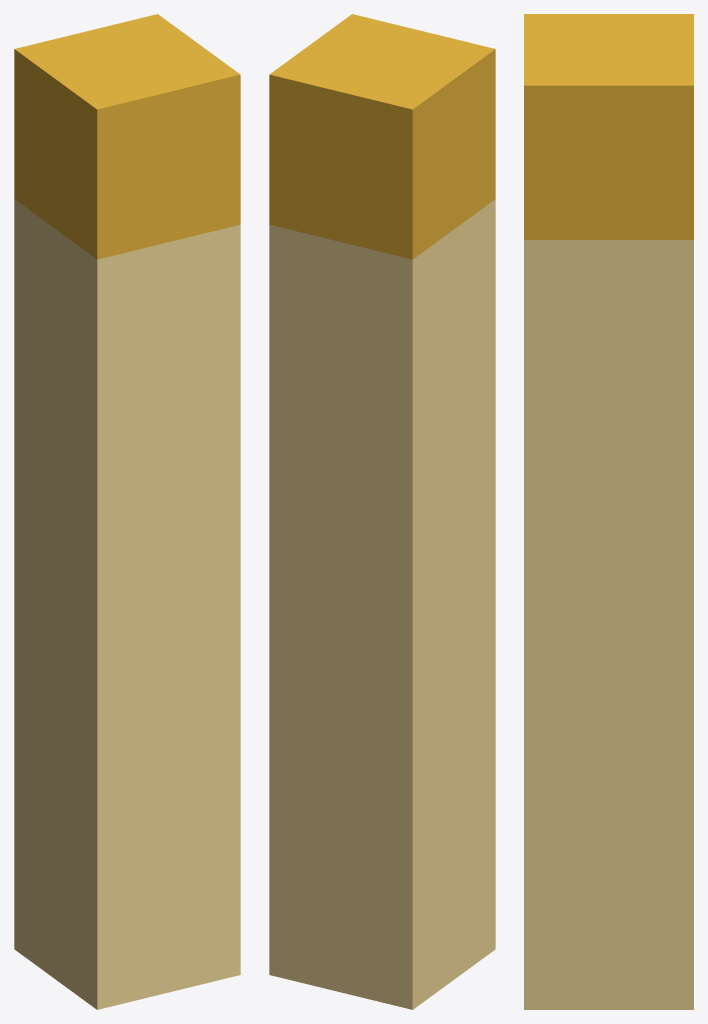
The model's file is thymea-23-right_hand_idle.obj.
3 renders of one model, left to right at view 1: azimuth 30°, elevation 25°; view 2: azimuth 150°, elevation 25°; view 3: azimuth 270°, elevation 25°, orthographic. The views are drawn at different scales.
Parts seen in each view (by area): view 1: right_hand_idle; view 2: right_hand_idle; view 3: right_hand_idle.
Boxes of the visible parts, x1,y1,x2,y2 form: right_hand_idle: (14, 14, 240, 1009); right_hand_idle: (269, 14, 495, 1009); right_hand_idle: (524, 14, 693, 1009).
Bounding box in the file's own units: 0.1 × 0.6 × 0.1.
Materials: 1 (1 with a texture image).
